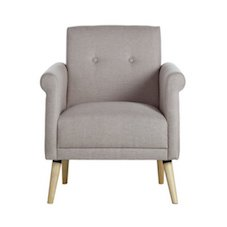chair: (14, 13, 191, 220)
